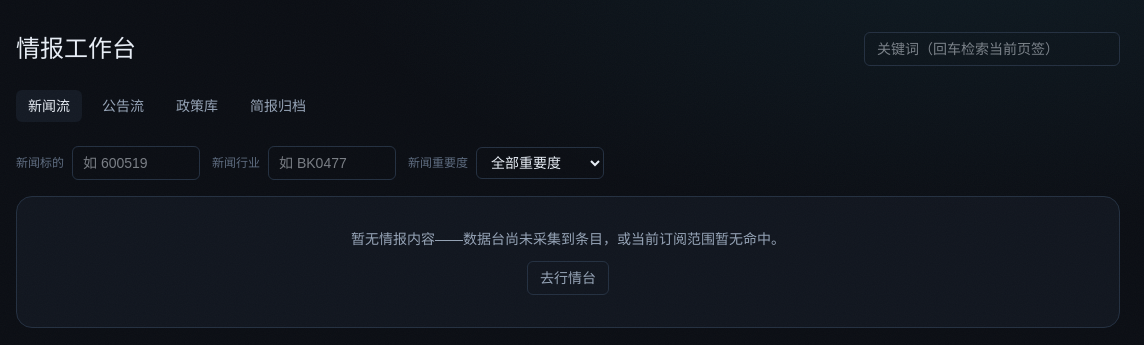
Scenario: IntelligenceBoard › 双空态：无过滤 intel-empty（去行情台 CTA）；有过滤 intel-empty-filtered；清除过滤恢复
Expected: the element with test id "intel-empty" is shown, [16, 196, 1120, 328]
Type "600519" into the field labelled "新闻标的" at [136, 163], box [72, 146, 200, 180]
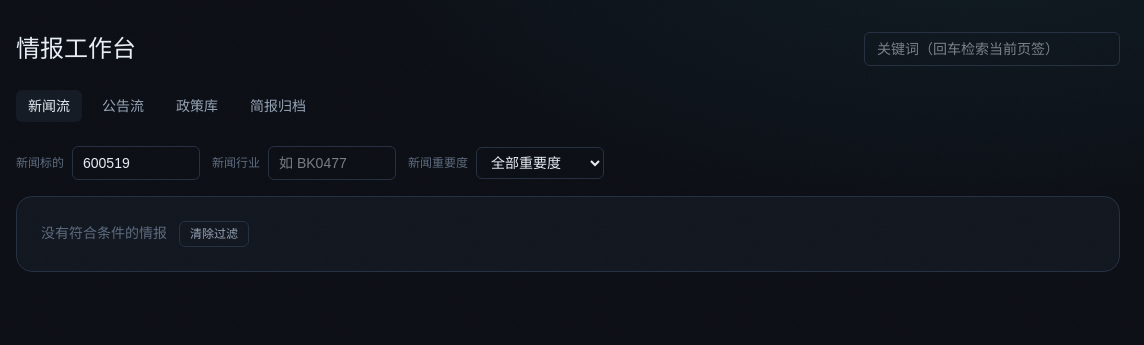
Expected: the element with test id "intel-empty-filtered" is shown, [16, 196, 1120, 272]
Click the button "清除过滤" at [214, 234], box [179, 221, 249, 247]
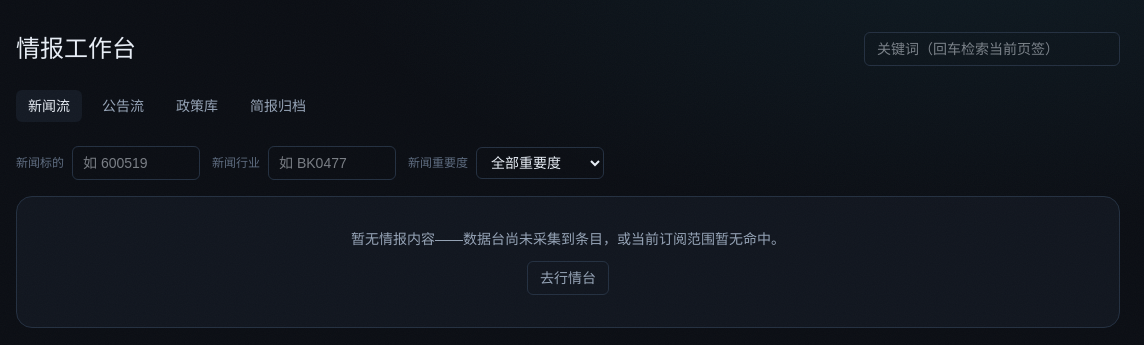
Expected: the element with test id "intel-empty" is shown, [16, 196, 1120, 328]
